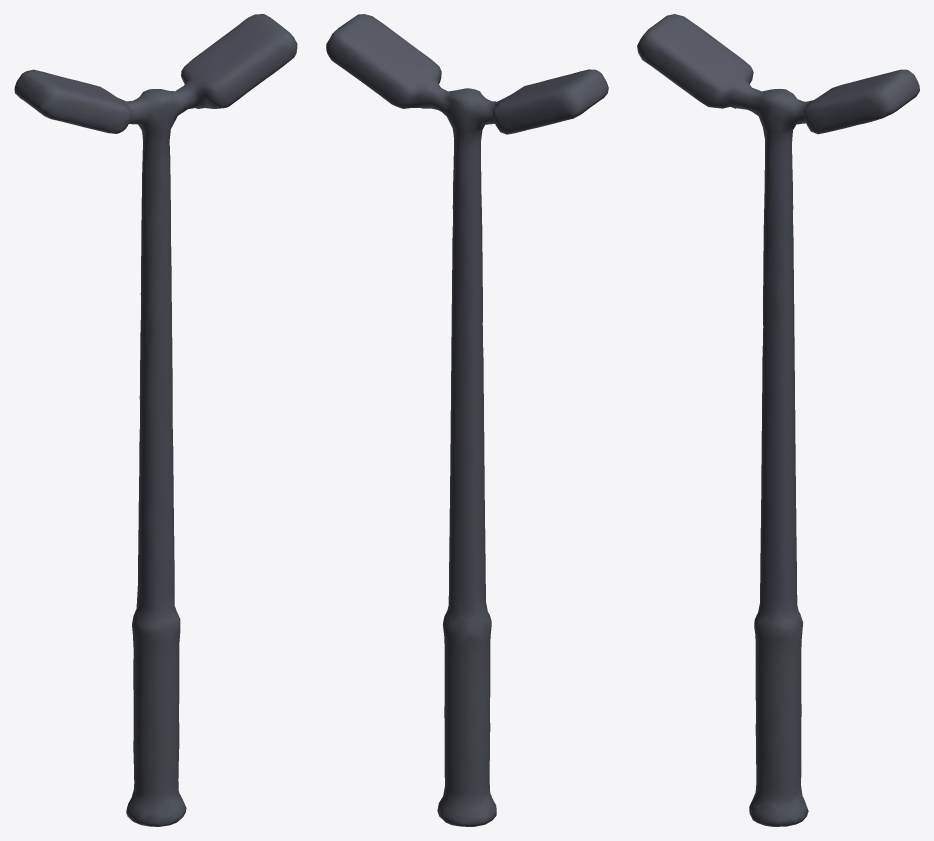
File: street_light.glb
The picture shows the model from 3 angles, left to right: view 1: azimuth 30°, elevation 25°; view 2: azimuth 150°, elevation 25°; view 3: azimuth 330°, elevation 25°; orthographic projection.
Bounding box in the file's own units: 0.3573 × 1.01 × 0.0861.
1 material, 1 textured.
